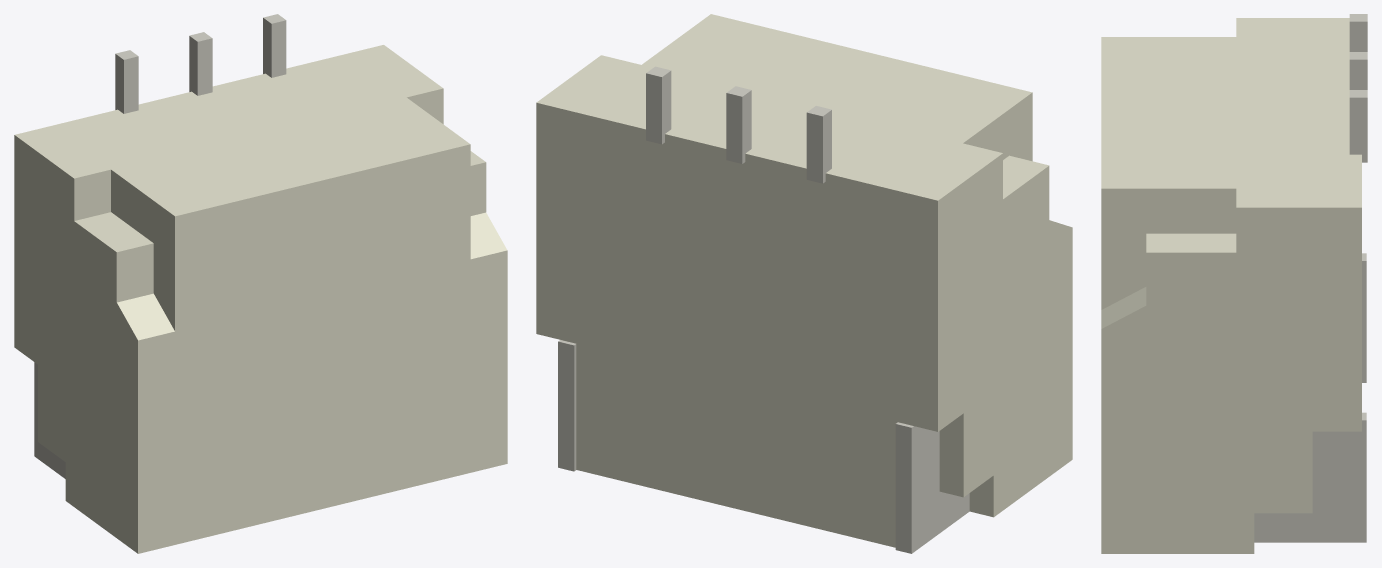
The model's file is Connector_JST_JST_SH_SM03B-SRSS-TB_1x03-1MP_P1.00mm_Horizontal.glb.
The picture shows the model from 3 angles, left to right: view 1: azimuth 30°, elevation 25°; view 2: azimuth 150°, elevation 25°; view 3: azimuth 270°, elevation 25°; orthographic projection. The views are drawn at different scales.
Size of the model in its own units: 5 by 4.95 by 2.96.
